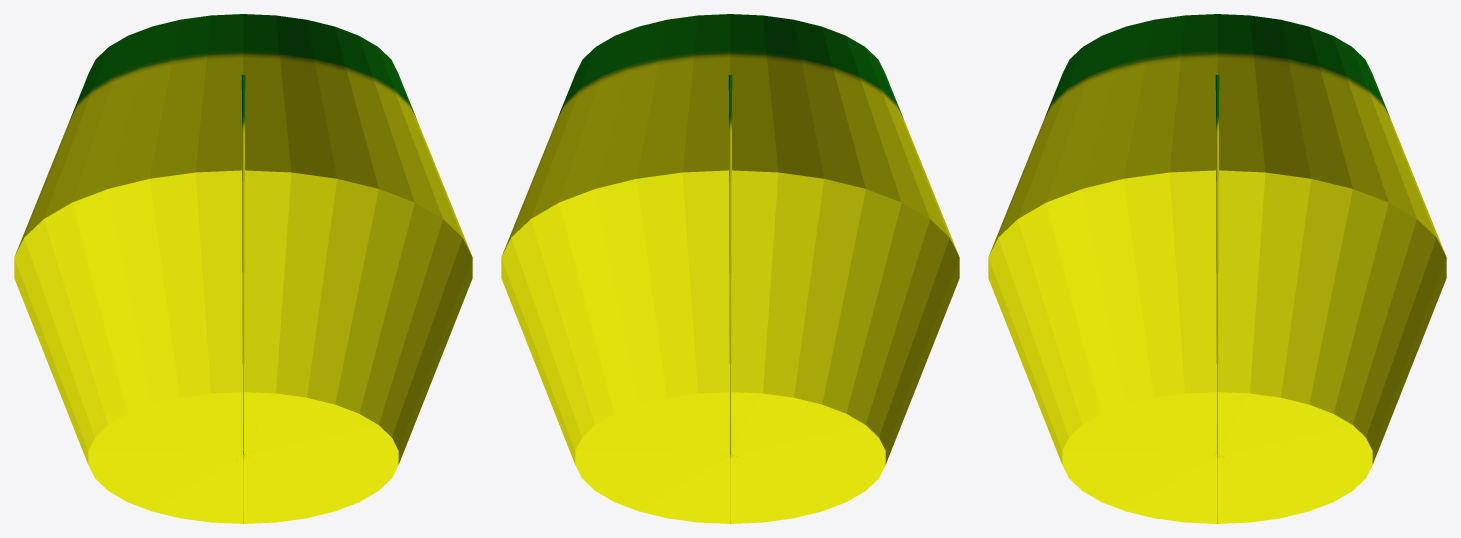
3 views of the same model, side by side, from view 1: azimuth 30°, elevation 25°; view 2: azimuth 150°, elevation 25°; view 3: azimuth 270°, elevation 25° (orthographic).
Parts seen in each view (by area): view 1: algeomath; view 2: algeomath; view 3: algeomath.
Part boxes in pixels (x1=…): algeomath: x1=14, y1=14, x2=472, y2=523; algeomath: x1=501, y1=14, x2=959, y2=523; algeomath: x1=988, y1=14, x2=1446, y2=523.
Size of the model in its own units: 8.86 by 8.14 by 8.81.
Materials: 1 (1 with a texture image).
